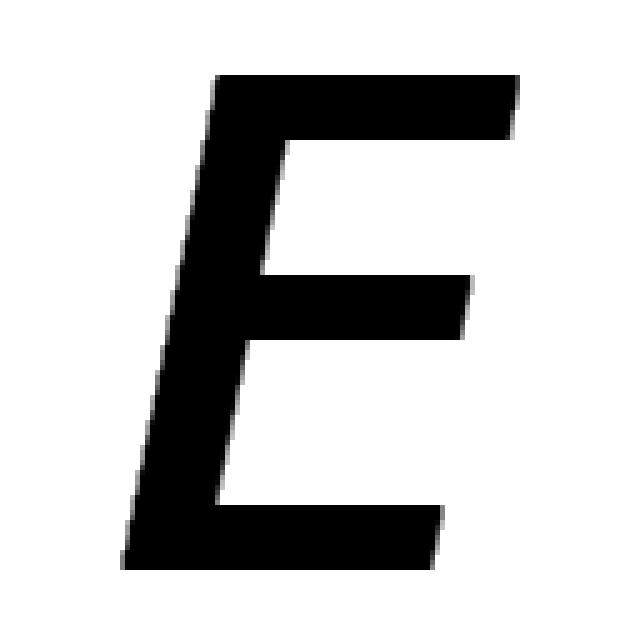E: (125, 75, 520, 575)
